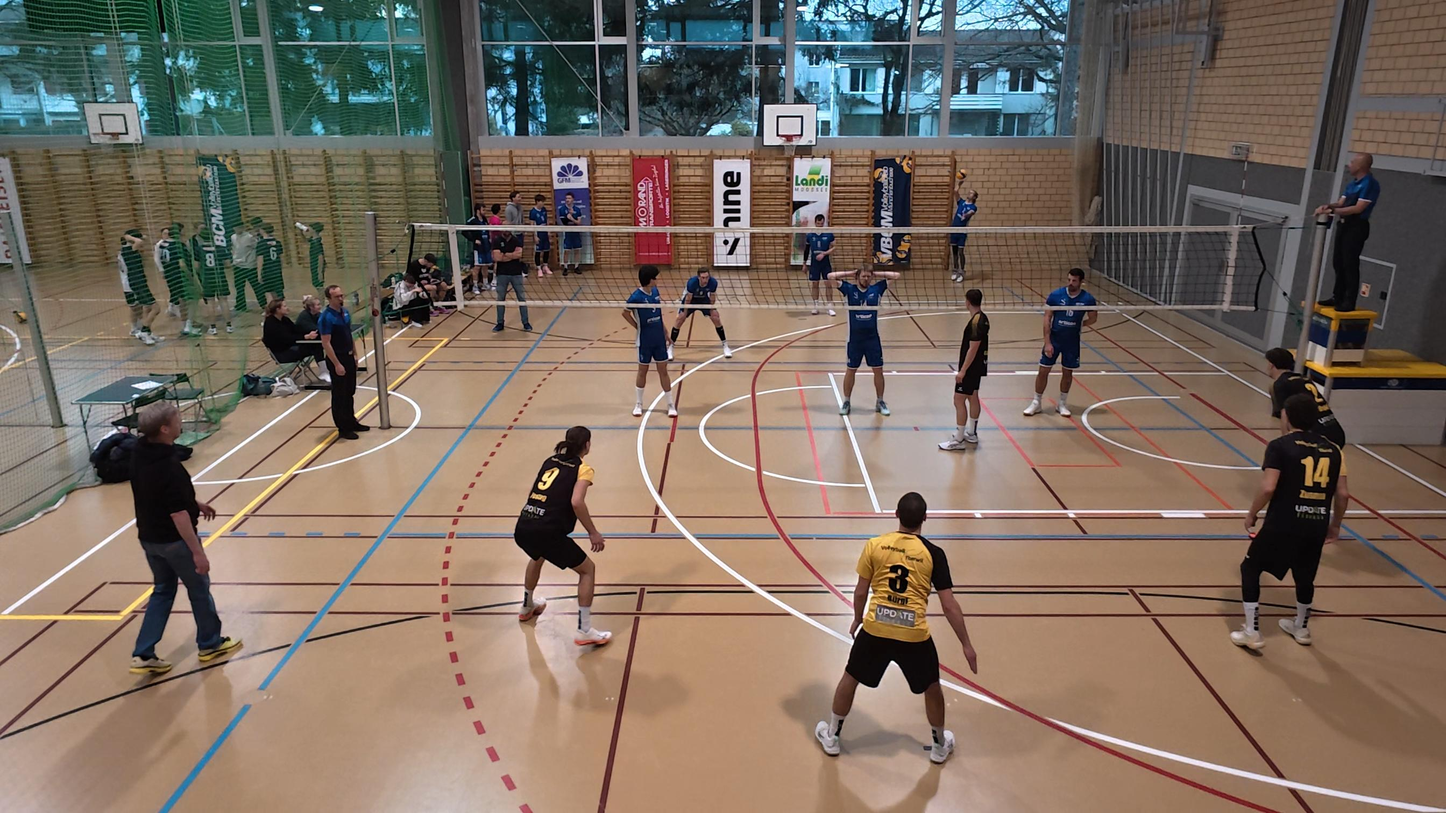battuta: (942, 168, 982, 290)
